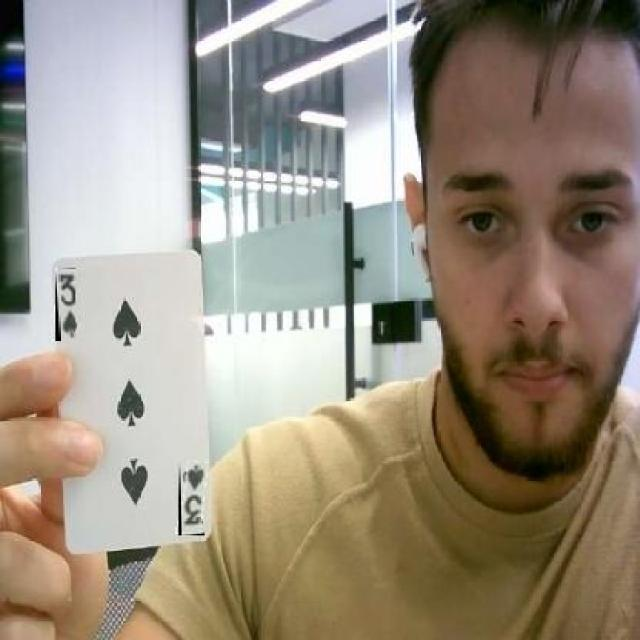3S: (178, 462, 204, 536), (56, 268, 76, 340)
